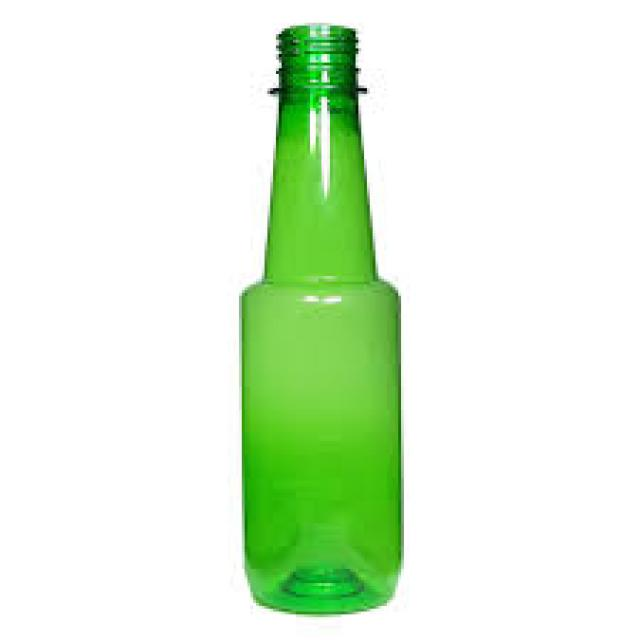glass: (239, 23, 401, 612)
